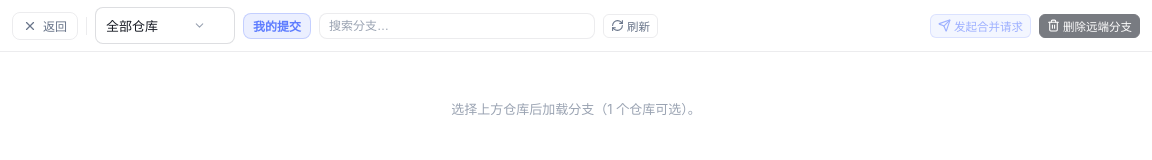
PendingMrView › surfaces a credential/network failure instead of an empty list
Click the dropdown labelled "全部仓库": (165, 26) x1=95 y1=7 x2=235 y2=44
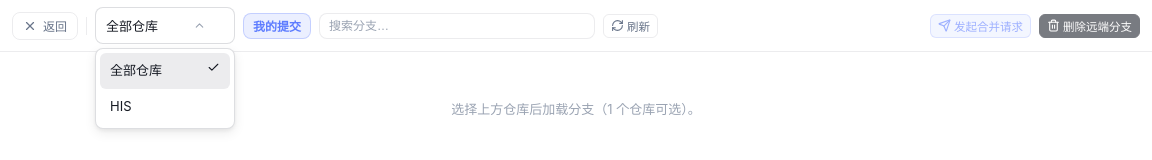
Click the option "HIS": (121, 106) x1=110 y1=98 x2=132 y2=114
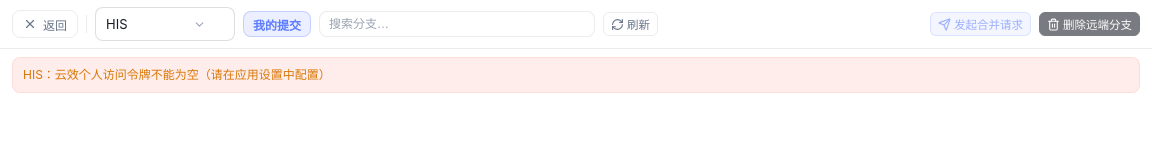
Check: the text "HIS：云效个人访问令牌不能为空（请在应用设置中配置）" is shown, box x1=12 y1=57 x2=1140 y2=93
